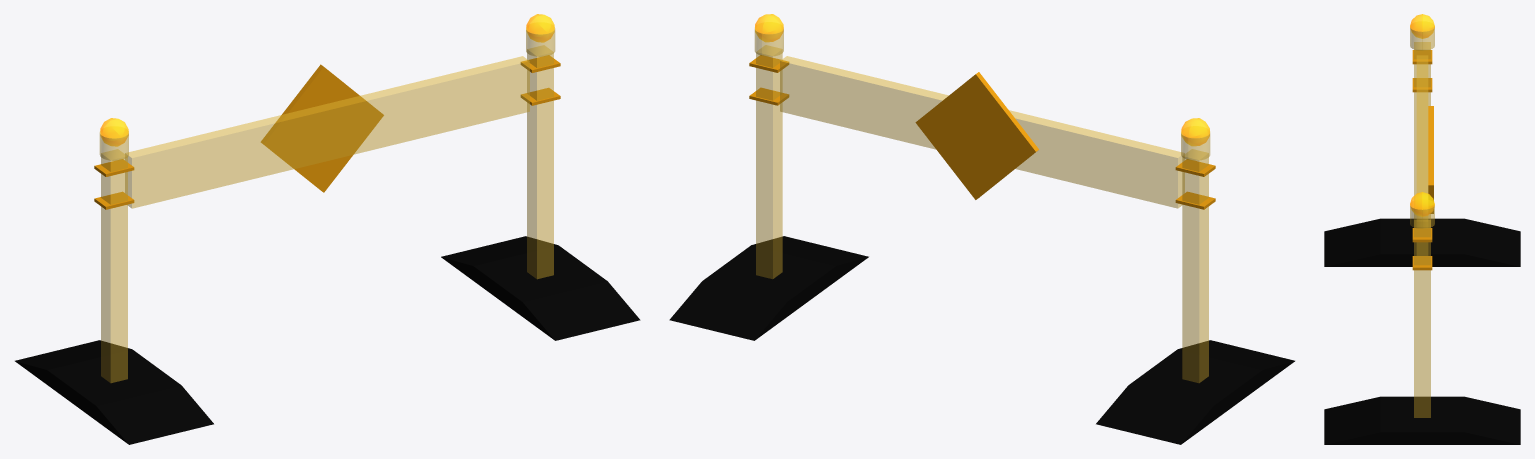
File: Construction Barriers.glb
3 views of the same model, side by side, from view 1: azimuth 30°, elevation 25°; view 2: azimuth 150°, elevation 25°; view 3: azimuth 270°, elevation 25° (orthographic). The views are drawn at different scales.
Visible parts, largest first — view 1: Root; view 2: Root; view 3: Root.
Part boxes in pixels (x1,y1,x2,y2): Root: (15, 14, 640, 444); Root: (669, 14, 1294, 444); Root: (1324, 14, 1520, 444).
Bounding box in the file's own units: 1.8 × 0.9178 × 0.7.
